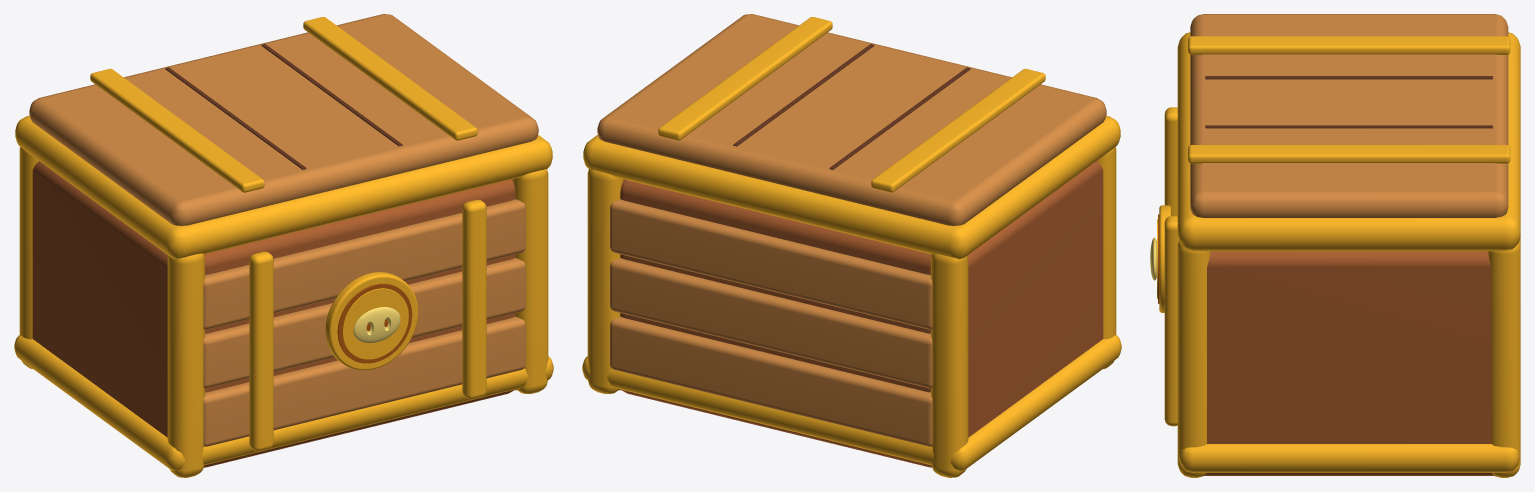
The model's file is common.glb.
3 views of the same model, side by side, from view 1: azimuth 30°, elevation 25°; view 2: azimuth 150°, elevation 25°; view 3: azimuth 270°, elevation 25° (orthographic). The views are drawn at different scales.
Visible parts, largest first — view 1: Body, Lid; view 2: Body, Lid; view 3: Body, Lid.
Boxes of the visible parts, bbox=[...] form: Body: bbox=[14, 147, 553, 477]; Lid: bbox=[15, 14, 552, 259]; Body: bbox=[582, 147, 1121, 477]; Lid: bbox=[583, 14, 1120, 259]; Body: bbox=[1150, 107, 1520, 477]; Lid: bbox=[1177, 14, 1520, 251].
Bounding box in the file's own units: 3.37 × 2.33 × 2.68.
Materials: 2 (2 with a texture image).
